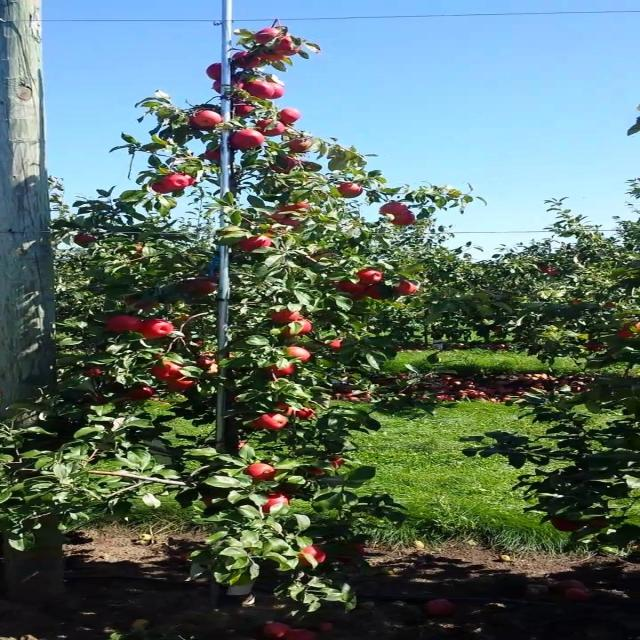apple: (141, 320, 176, 340), (333, 544, 368, 564), (106, 316, 142, 333), (269, 156, 300, 175), (298, 548, 327, 568), (262, 496, 292, 515), (234, 132, 265, 150), (255, 120, 288, 136), (191, 112, 224, 128), (312, 460, 345, 476), (276, 36, 302, 56), (127, 296, 160, 311), (248, 464, 277, 481), (234, 52, 263, 69), (284, 320, 313, 336), (212, 80, 245, 94), (255, 28, 283, 44), (340, 284, 368, 300), (156, 364, 183, 380), (241, 236, 268, 252), (262, 416, 290, 431), (191, 280, 219, 294), (390, 212, 416, 227), (269, 364, 299, 377), (248, 236, 274, 251), (163, 176, 190, 190), (269, 312, 300, 324), (397, 280, 420, 296), (340, 280, 366, 294), (248, 84, 270, 100), (554, 520, 583, 532), (127, 388, 156, 400), (340, 184, 363, 199), (291, 348, 313, 363), (170, 380, 197, 392), (284, 108, 304, 124), (205, 64, 226, 79), (170, 176, 194, 189), (383, 204, 409, 216), (369, 284, 386, 300), (362, 272, 384, 284), (291, 140, 313, 152), (262, 52, 286, 63), (234, 104, 256, 116), (198, 356, 219, 368), (148, 184, 172, 194), (269, 84, 284, 100), (84, 368, 105, 379), (276, 404, 295, 416), (255, 236, 274, 248), (298, 408, 316, 420), (276, 204, 299, 213), (77, 236, 96, 246), (589, 520, 610, 529), (326, 340, 343, 351), (276, 488, 299, 496), (284, 204, 306, 212), (582, 344, 604, 352), (205, 152, 222, 161), (248, 420, 265, 429), (269, 212, 286, 221), (205, 496, 217, 508), (92, 396, 108, 405), (618, 332, 633, 340), (291, 204, 311, 210), (284, 220, 299, 228), (269, 228, 284, 236), (205, 368, 220, 376), (333, 460, 345, 468), (243, 444, 247, 447)
